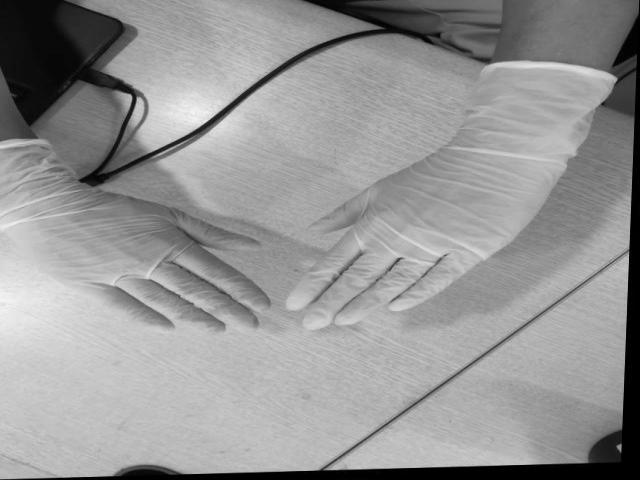gloved: (291, 158, 545, 329), (17, 191, 266, 337)
